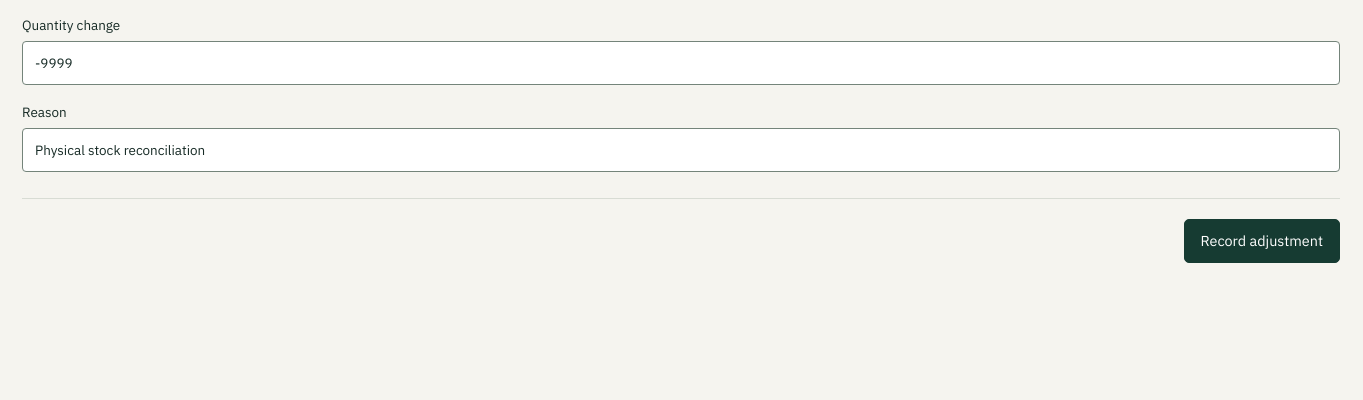
form failure recovery › renders an API conflict with null field errors and lets the user correct and retry it
Click the button "Record adjustment". click: (1262, 241)
box: top-left (1184, 219), bottom-right (1340, 263)
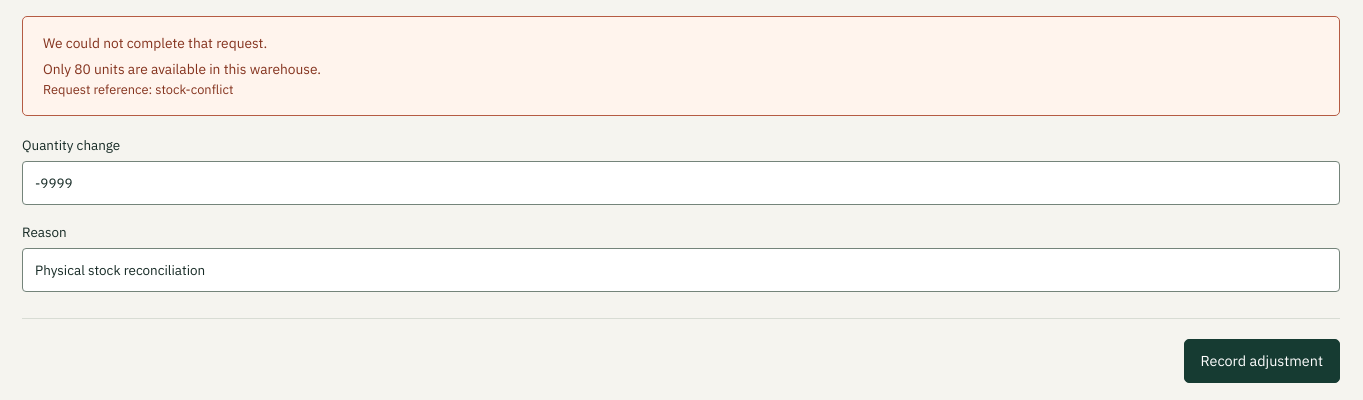
expect the field labelled "Reason" holds "Physical stock reconciliation": met, box top-left (22, 248), bottom-right (1340, 292)
expect the message shows "Only 80 units are available in this warehouse.": met, box top-left (43, 60), bottom-right (321, 78)
Replace the text in the number field labelled "Quantity change" with "-3". click: (681, 183)
box: top-left (22, 161), bottom-right (1340, 205)
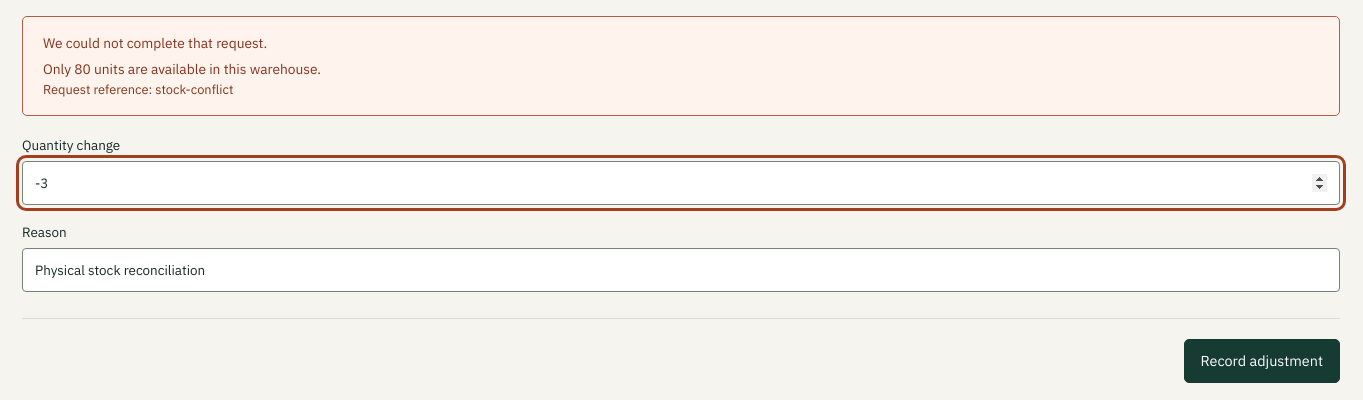
Click the button "Record adjustment". click: (1262, 361)
box: top-left (1184, 339), bottom-right (1340, 383)
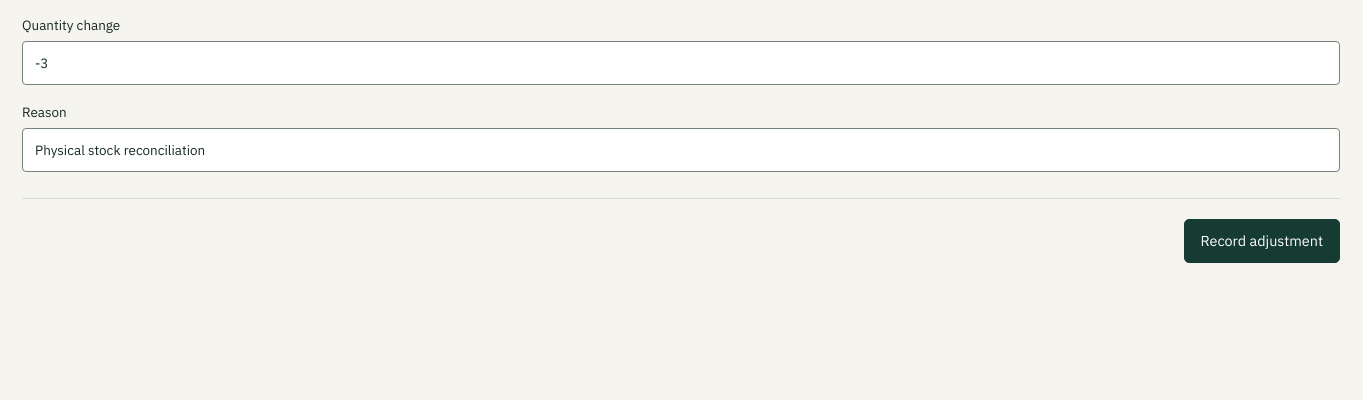
expect the message is gone: met
